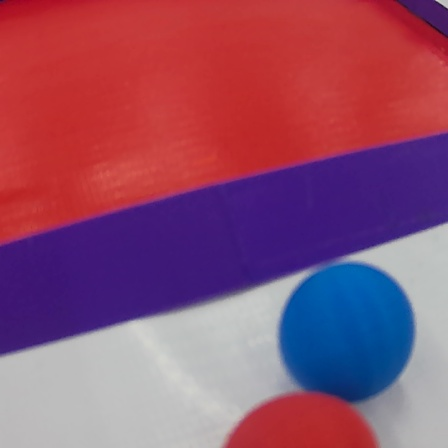blue: (276, 259, 417, 406)
red: (224, 382, 392, 448)
red_aim: (0, 0, 443, 356)
